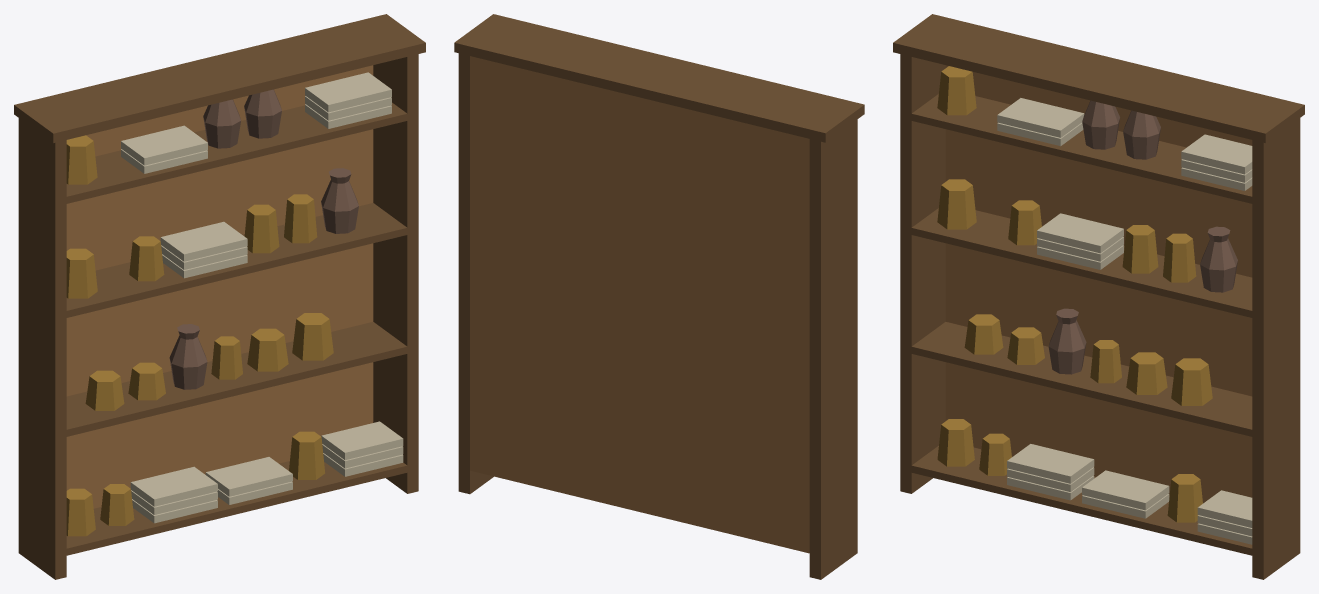
File: Shelves.fbx
3 views of the same model, side by side, from view 1: azimuth 30°, elevation 25°; view 2: azimuth 150°, elevation 25°; view 3: azimuth 330°, elevation 25° (orthographic).
Parts seen in each view (by area): view 1: Shelves; view 2: Shelves; view 3: Shelves.
Boxes of the visible parts, x1,y1,x2,y2 form: Shelves: [14, 14, 425, 579]; Shelves: [454, 14, 864, 579]; Shelves: [893, 14, 1304, 579].
Bounding box in the file's own units: 1.64 × 1.89 × 0.3.
